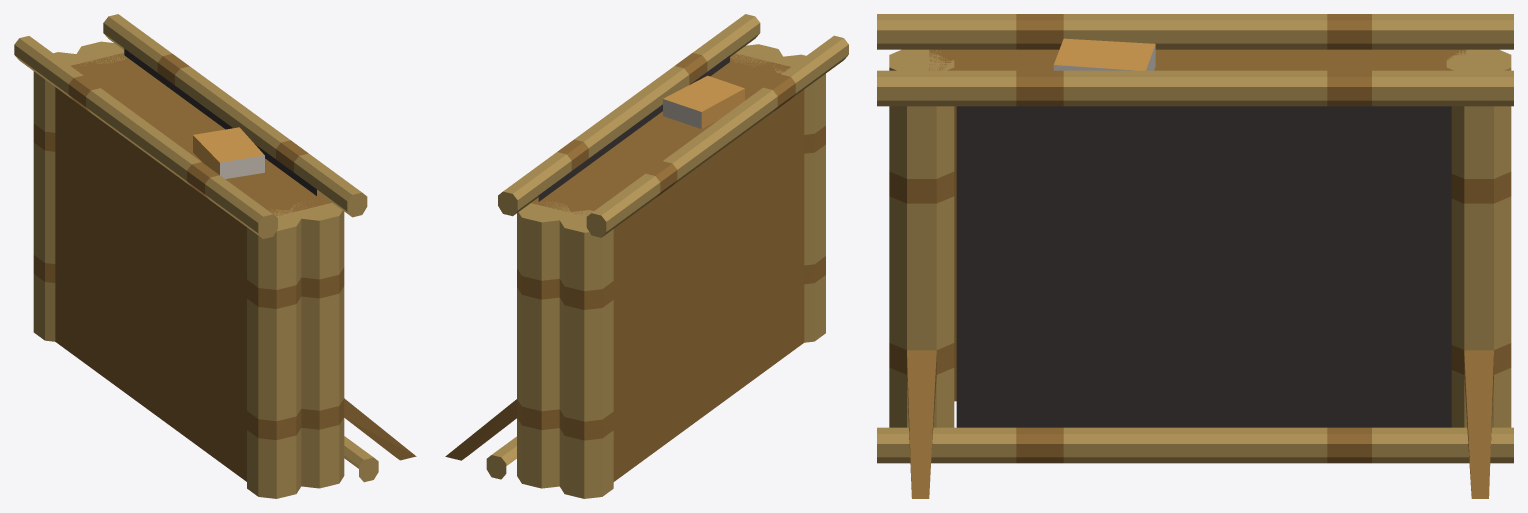
File: obj_bookcase_6_0.obj
The picture shows the model from 3 angles, left to right: view 1: azimuth 30°, elevation 25°; view 2: azimuth 150°, elevation 25°; view 3: azimuth 270°, elevation 25°; orthographic projection. The views are drawn at different scales.
Size of the model in its own units: 0.8125 by 1.31 by 2.
